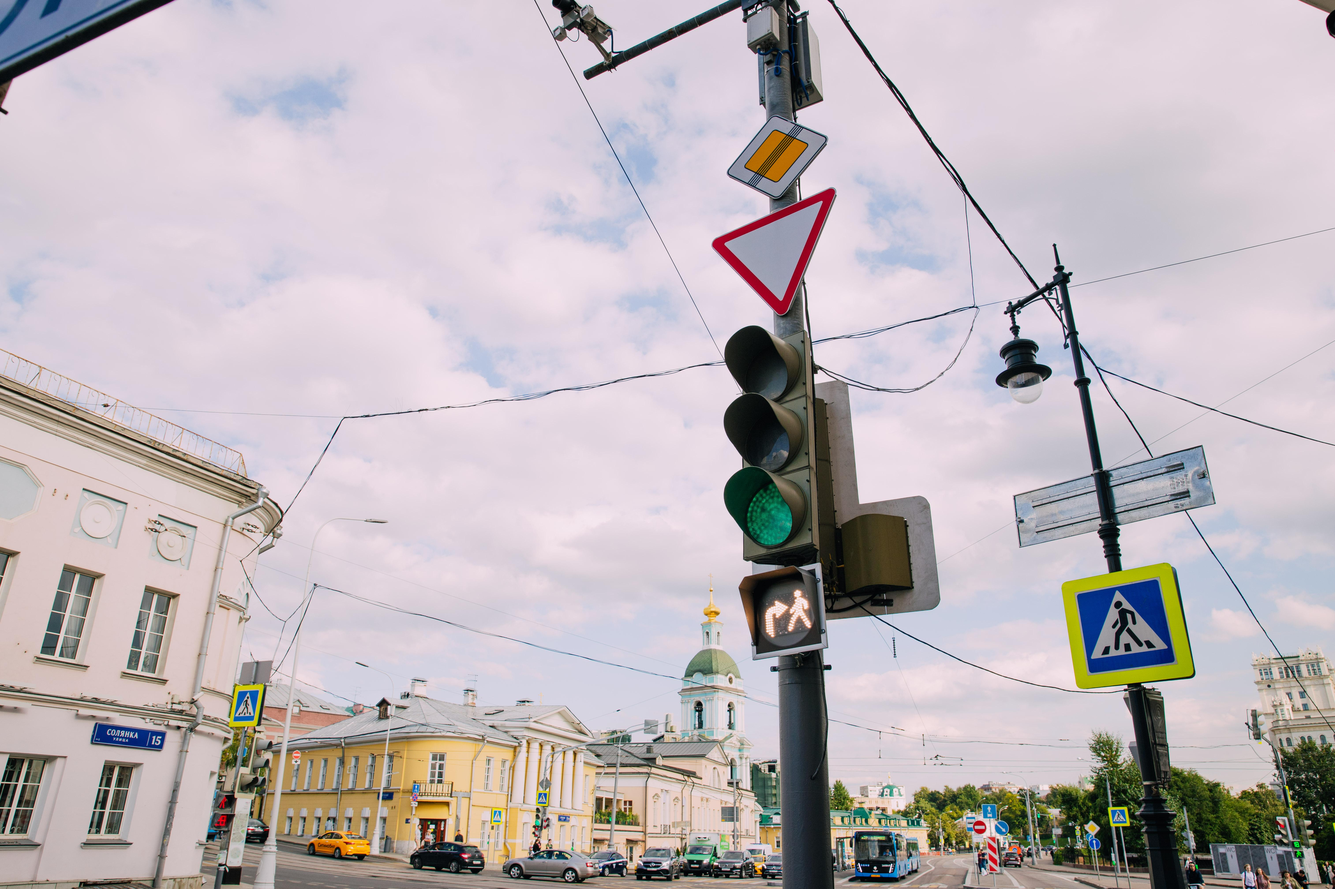obstructed_road_sign: (1251, 710, 1267, 740), (1299, 820, 1315, 849), (966, 817, 975, 831), (1086, 833, 1094, 841), (883, 826, 889, 832), (1027, 836, 1032, 841)
road_sign: (1063, 563, 1196, 689), (713, 188, 835, 315), (728, 116, 827, 197), (229, 685, 262, 726), (986, 837, 999, 872), (1109, 807, 1130, 826), (982, 804, 996, 818), (1085, 821, 1099, 835), (536, 791, 549, 806), (491, 808, 503, 824), (995, 821, 1008, 835), (973, 821, 986, 834), (1089, 839, 1100, 849), (293, 751, 301, 759), (412, 793, 418, 802), (413, 784, 419, 793), (1075, 830, 1080, 835), (1075, 825, 1080, 830), (411, 802, 417, 806), (926, 839, 930, 844)
traffic light: (723, 325, 816, 559), (738, 563, 827, 655), (238, 738, 272, 793), (210, 792, 237, 830), (1272, 819, 1291, 847), (1290, 840, 1305, 859), (535, 807, 542, 826), (543, 816, 550, 829), (532, 825, 539, 837), (1077, 836, 1082, 843), (1037, 811, 1040, 818)
